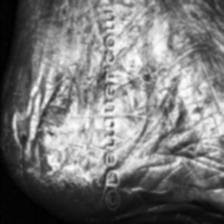Toxin: (27, 73, 91, 208)
